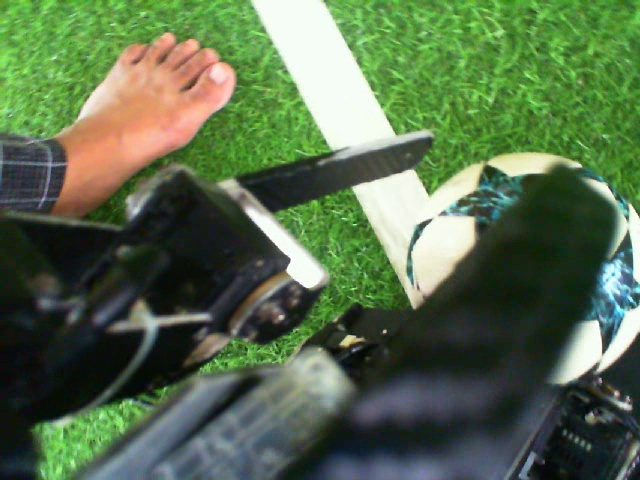ball: (401, 130, 588, 314)
